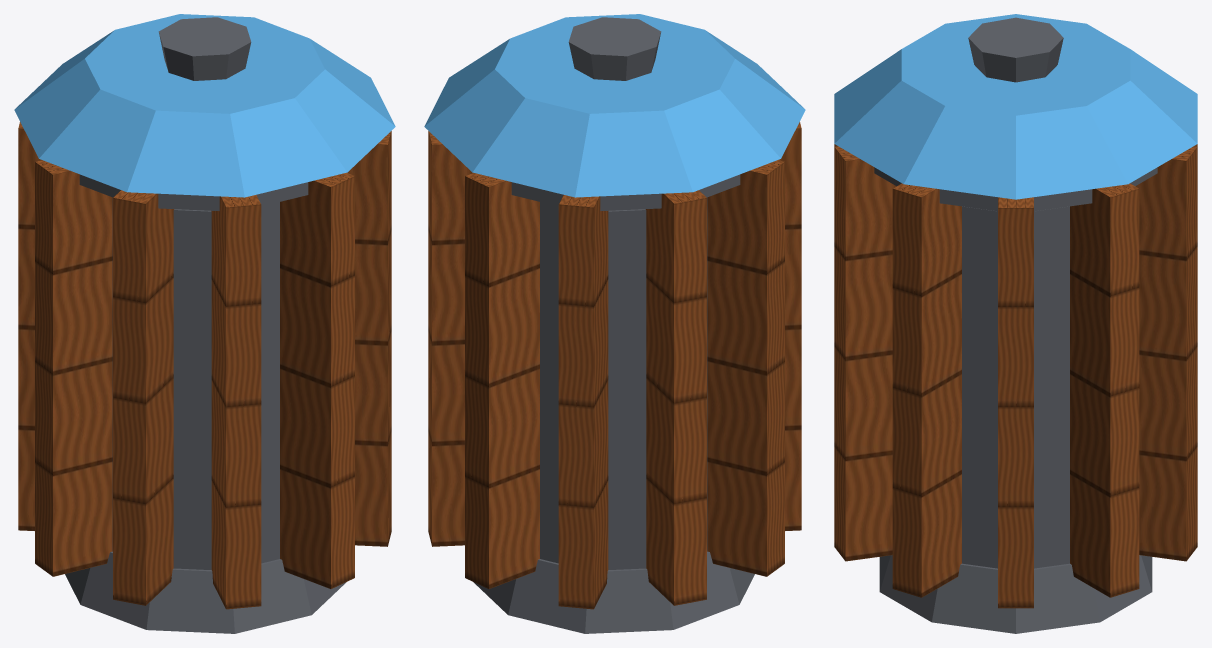
The model's file is trash-bin.glb.
The picture shows the model from 3 angles, left to right: view 1: azimuth 30°, elevation 25°; view 2: azimuth 150°, elevation 25°; view 3: azimuth 270°, elevation 25°; orthographic projection.
Parts seen in each view (by area): view 1: park-litter-bin-timber, lid/azure, park-litter-bin-charcoal, lid/charcoal; view 2: park-litter-bin-timber, lid/azure, park-litter-bin-charcoal, lid/charcoal; view 3: park-litter-bin-timber, lid/azure, park-litter-bin-charcoal, lid/charcoal.
Boxes of the visible parts, x1,y1,x2,y2 form: park-litter-bin-timber: (18,122,391,609); lid/azure: (14,14,395,197); park-litter-bin-charcoal: (65,174,346,633); lid/charcoal: (158,17,251,80); park-litter-bin-timber: (428,122,801,609); lid/azure: (424,14,805,197); park-litter-bin-charcoal: (473,174,754,633); lid/charcoal: (568,17,661,80); park-litter-bin-timber: (834,144,1197,608); lid/azure: (834,14,1197,199); park-litter-bin-charcoal: (874,167,1157,633); lid/charcoal: (968,17,1063,82).
Bounding box in the file's own units: 0.64 × 0.99 × 0.6087.
3 materials, 1 textured.
